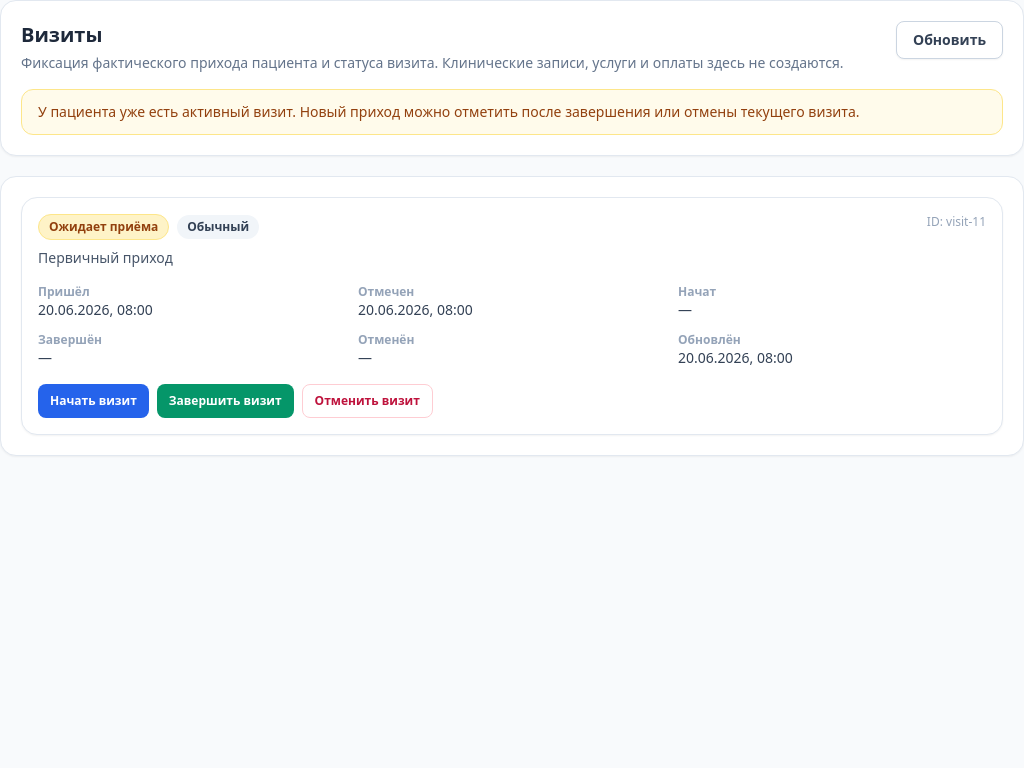
Scenario: VisitCheckInPanel › cancel form requires reason before enabling confirmation
Click the button "Отменить визит". click: [367, 401]
box: x1=302 y1=384 x2=433 y2=418
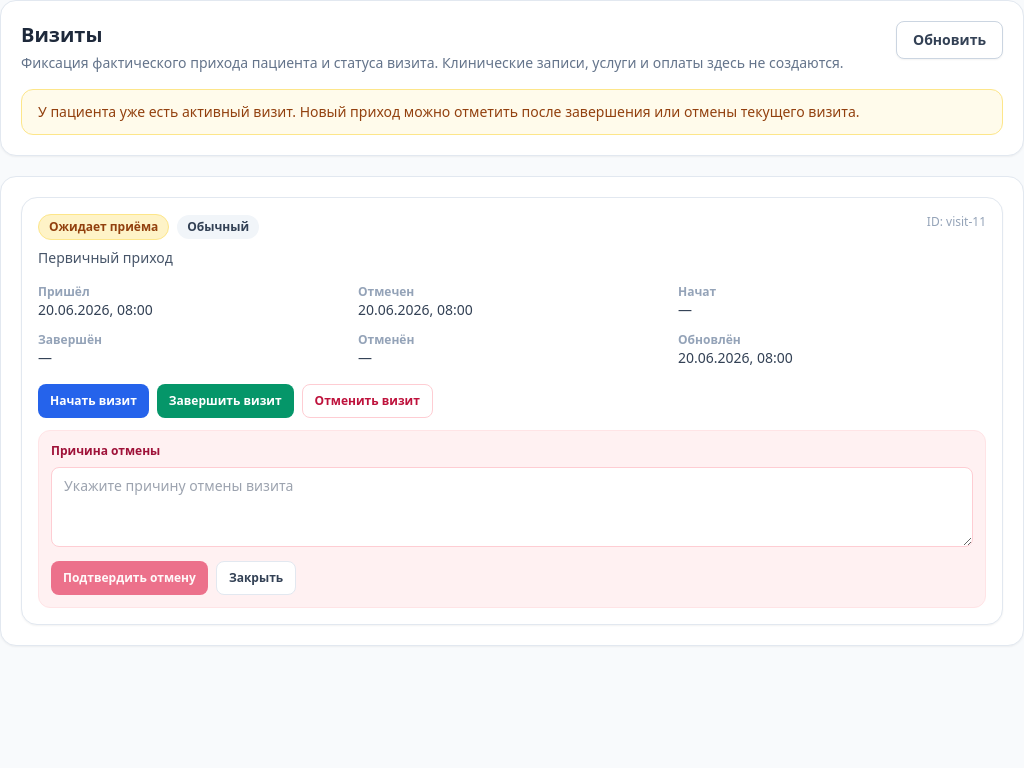
Expected: the text "Причина отмены" is shown, x1=51 y1=442 x2=160 y2=459
Expected: the button "Подтвердить отмену" is disabled, x1=51 y1=561 x2=208 y2=595
